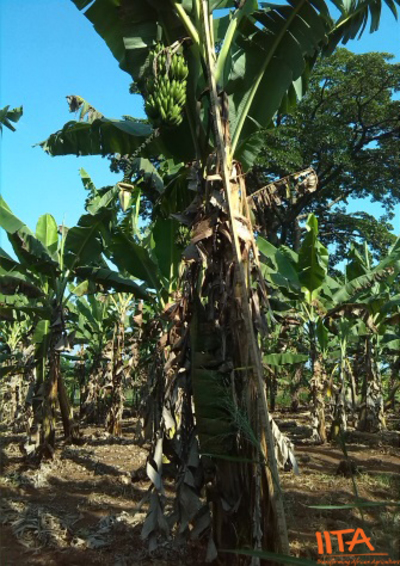bananaHand: (142, 36, 193, 130)
